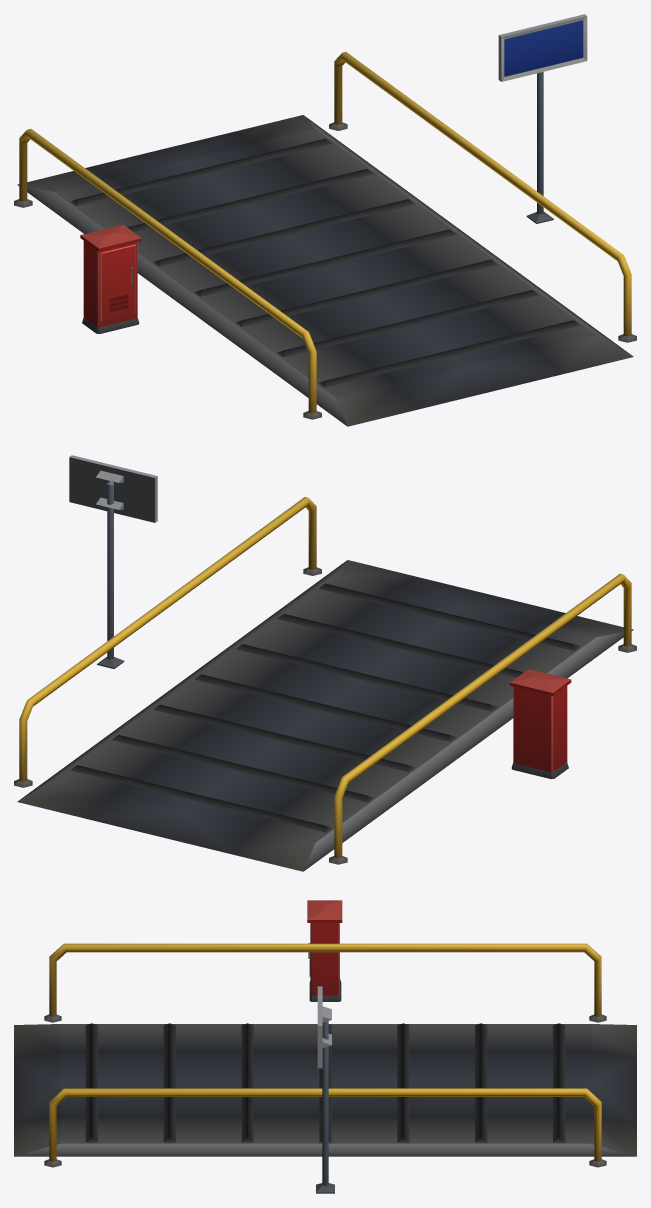
Rendered from yard-tire-inspection-body.glb.
The picture shows the model from 3 angles, top to bottom: view 1: azimuth 30°, elevation 25°; view 2: azimuth 150°, elevation 25°; view 3: azimuth 270°, elevation 25°; orthographic projection. The views are drawn at different scales.
Visible parts, largest first — view 1: Yard-tire-inspection-bodyBody; view 2: Yard-tire-inspection-bodyBody; view 3: Yard-tire-inspection-bodyBody.
Part boxes in pixels (left/top/right/bottom): Yard-tire-inspection-bodyBody: left=14, top=14, right=636, bottom=426; Yard-tire-inspection-bodyBody: left=14, top=455, right=636, bottom=871; Yard-tire-inspection-bodyBody: left=14, top=900, right=636, bottom=1193.
Bounding box in the file's own units: 6.9 × 2.6 × 8.
